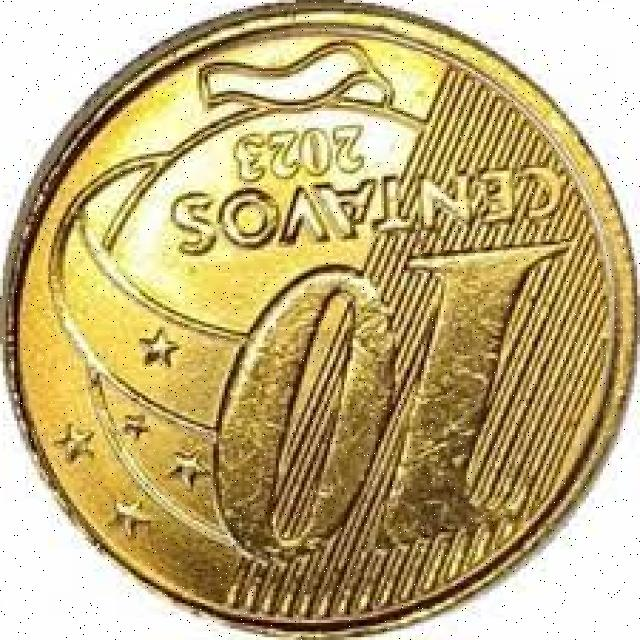10 cent: (12, 13, 622, 629)
